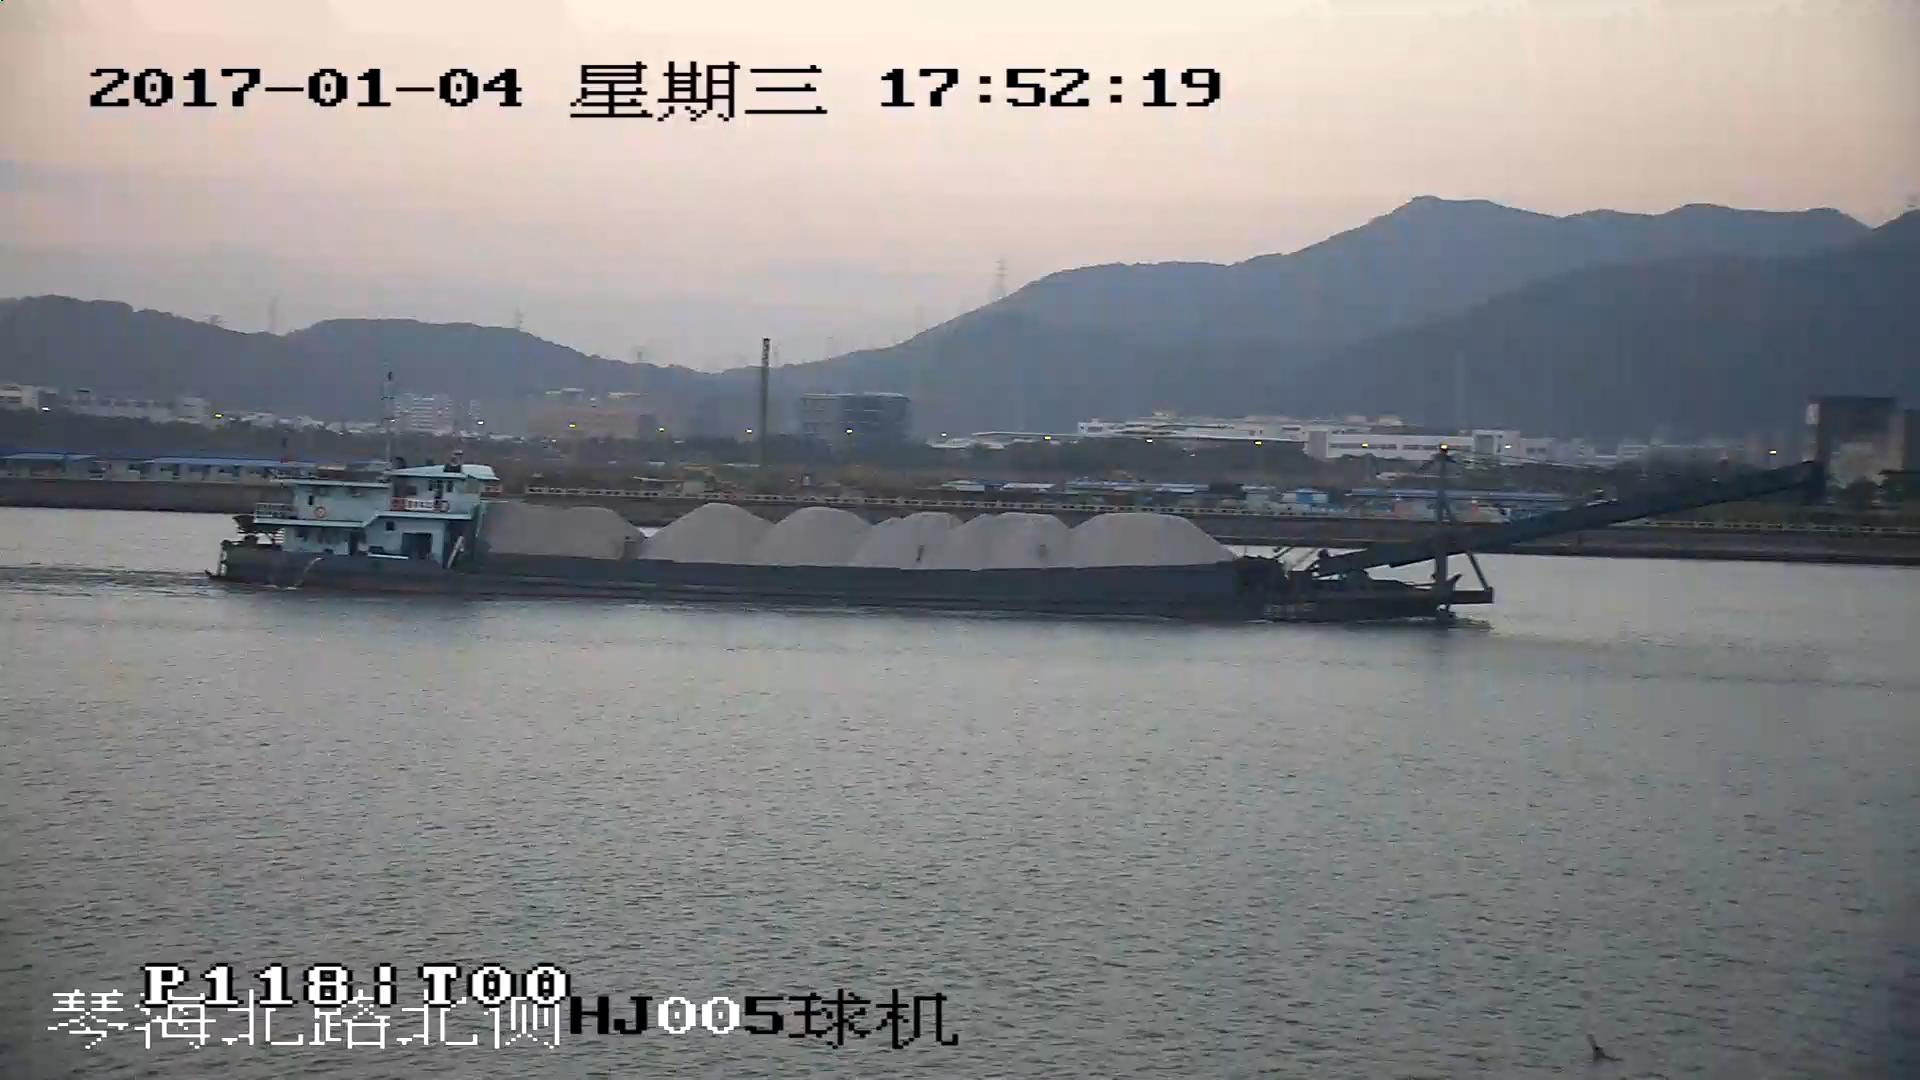ore carrier: (219, 463, 1813, 619)
